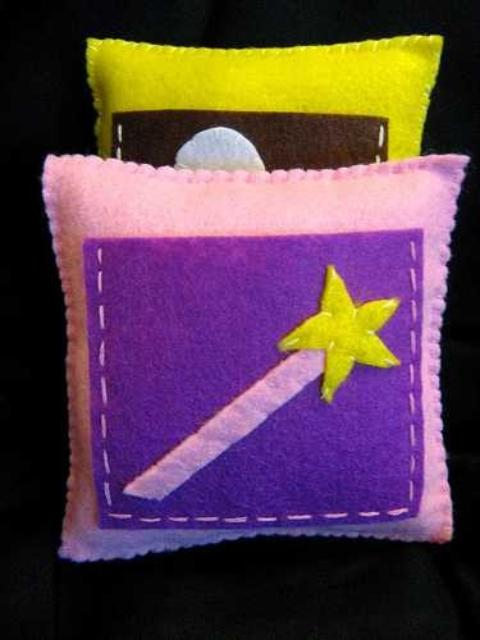pillow: (41, 148, 469, 562), (84, 32, 444, 168)
